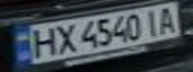0: (124, 11, 145, 40)
4: (75, 17, 100, 50), (112, 12, 133, 44)
5: (93, 16, 115, 47)
A: (154, 3, 184, 34)
H: (24, 25, 60, 58)
I: (142, 7, 166, 37)
X: (51, 21, 78, 55)
